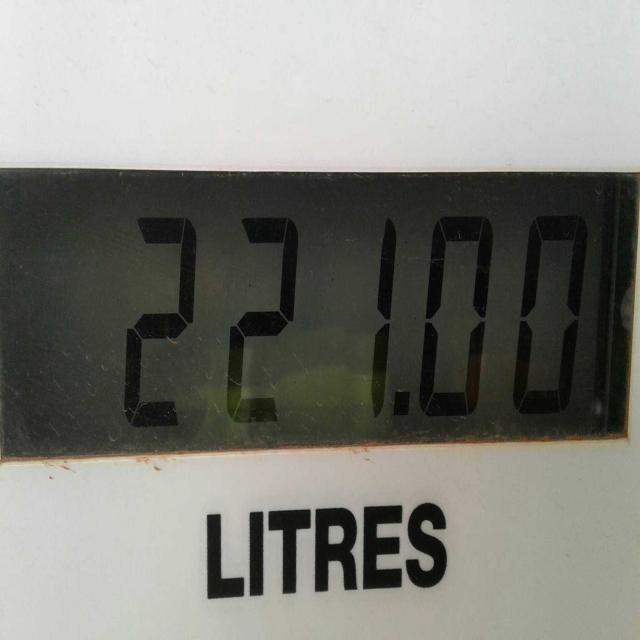.: (394, 377, 414, 422)
0: (418, 211, 505, 428), (513, 208, 594, 428)
1: (364, 214, 400, 436)
2: (223, 214, 301, 426), (125, 221, 191, 423)
